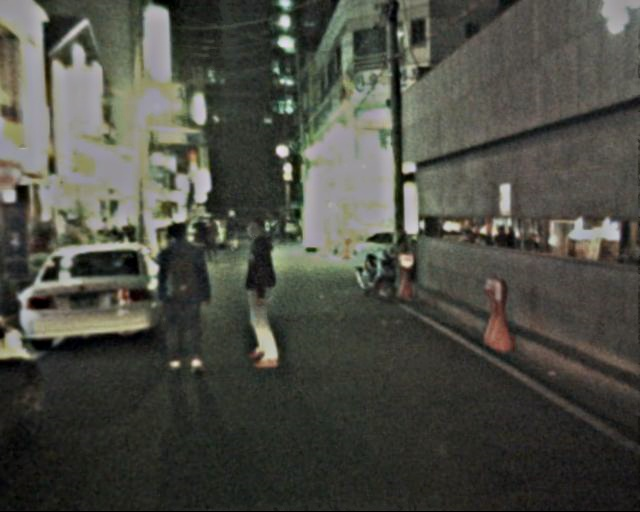person: (152, 222, 217, 370), (229, 223, 289, 370), (197, 217, 220, 261)
